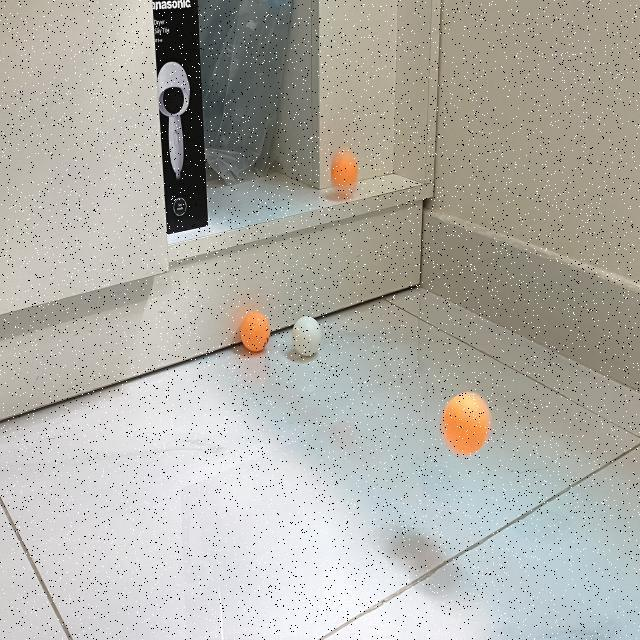ping-pong-ball: (441, 392, 491, 456), (330, 149, 358, 195), (241, 310, 271, 352), (293, 316, 322, 356)
